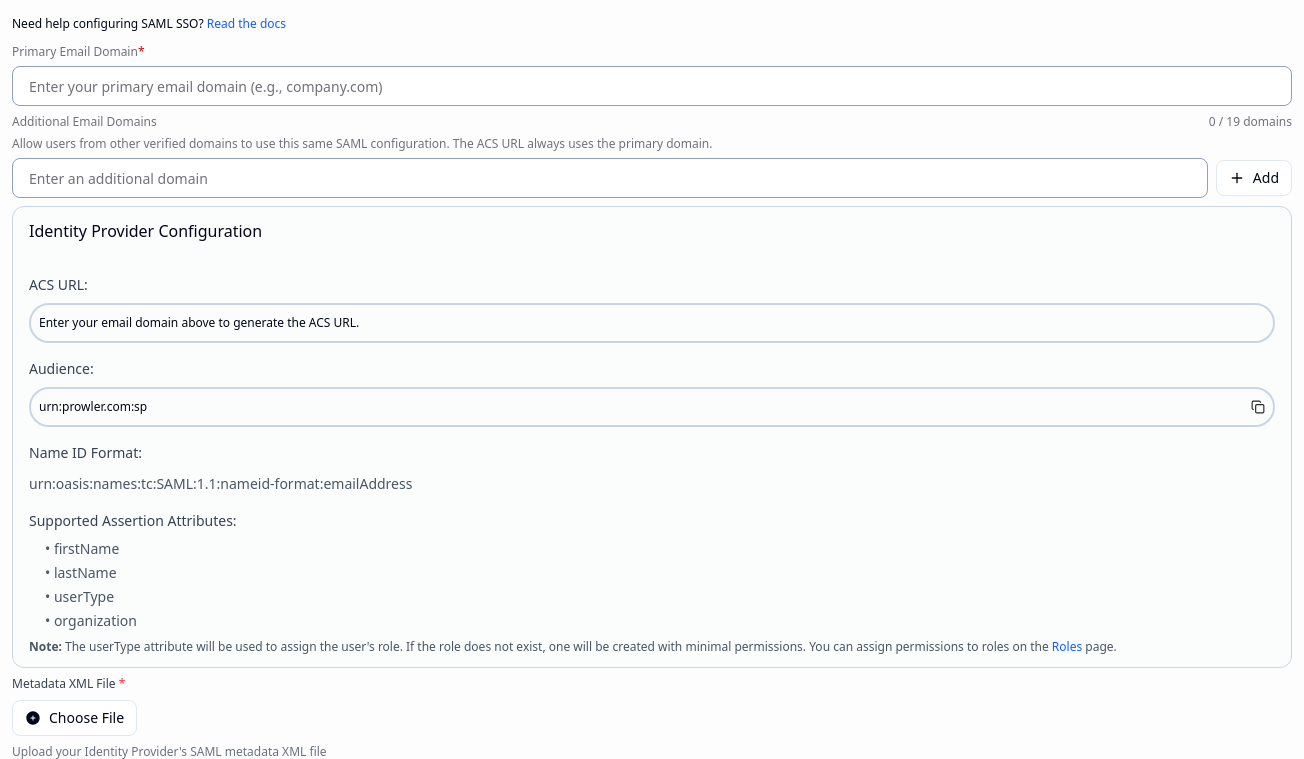
Scenario: SamlConfigForm › adds normalized aliases and removes them in Cloud
This screenshot has width=1304, height=759.
Type " Subsidiary.Example.com " into the field labelled "Additional Email Domain" at point(610, 178), box [12,158,1208,198]
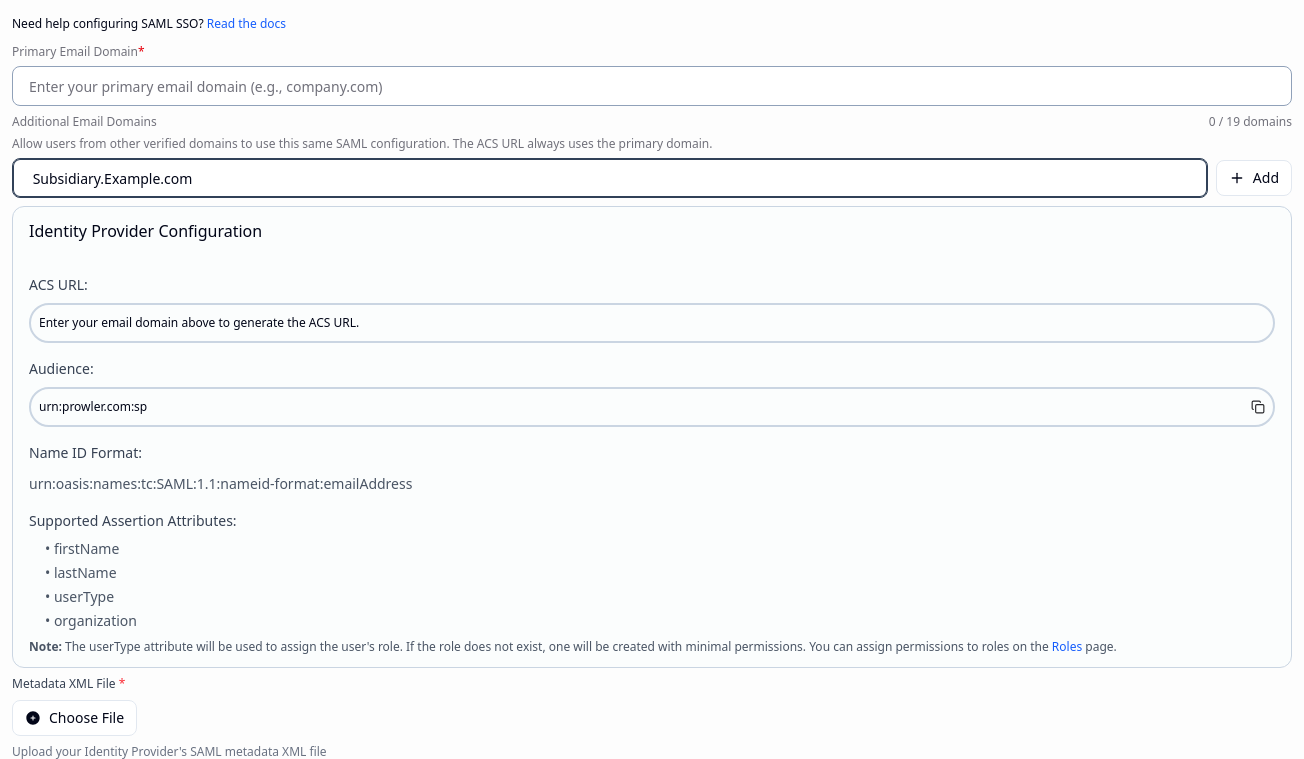
Click the button with aria-label "Add domain" at point(1254, 178), box [1216,160,1292,196]
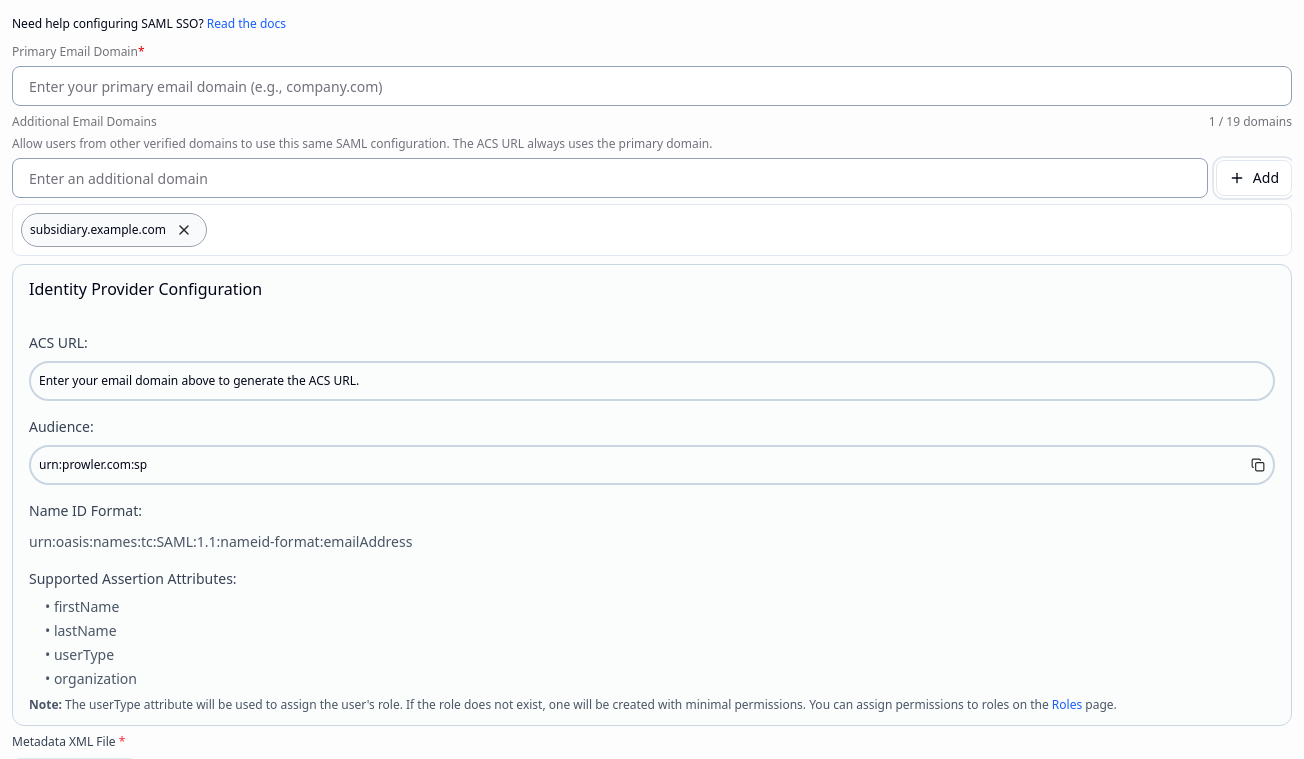
Check: the text "subsidiary.example.com" is shown, box [21,213,207,247]
Click the button named "Remove subsidiary.example.com" at point(184, 230), box [170,216,198,244]
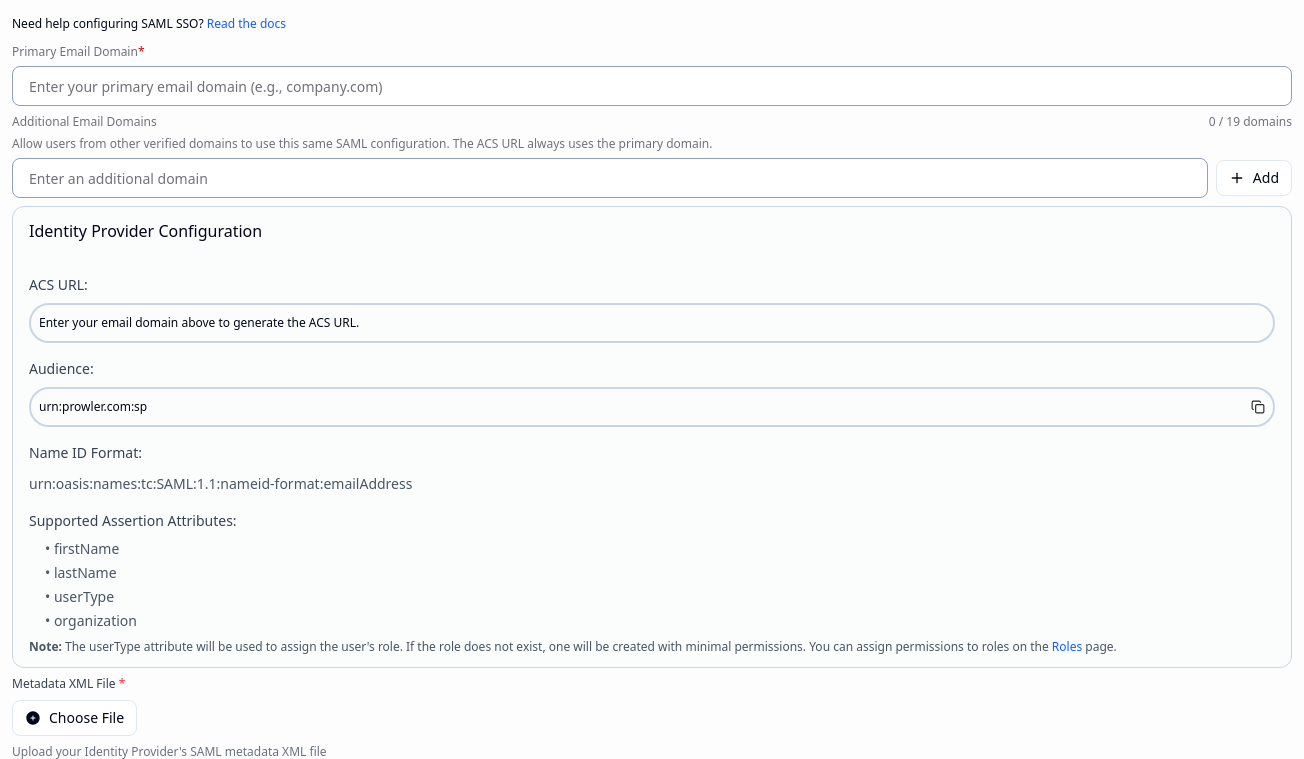
Check: the text "subsidiary.example.com" is gone
